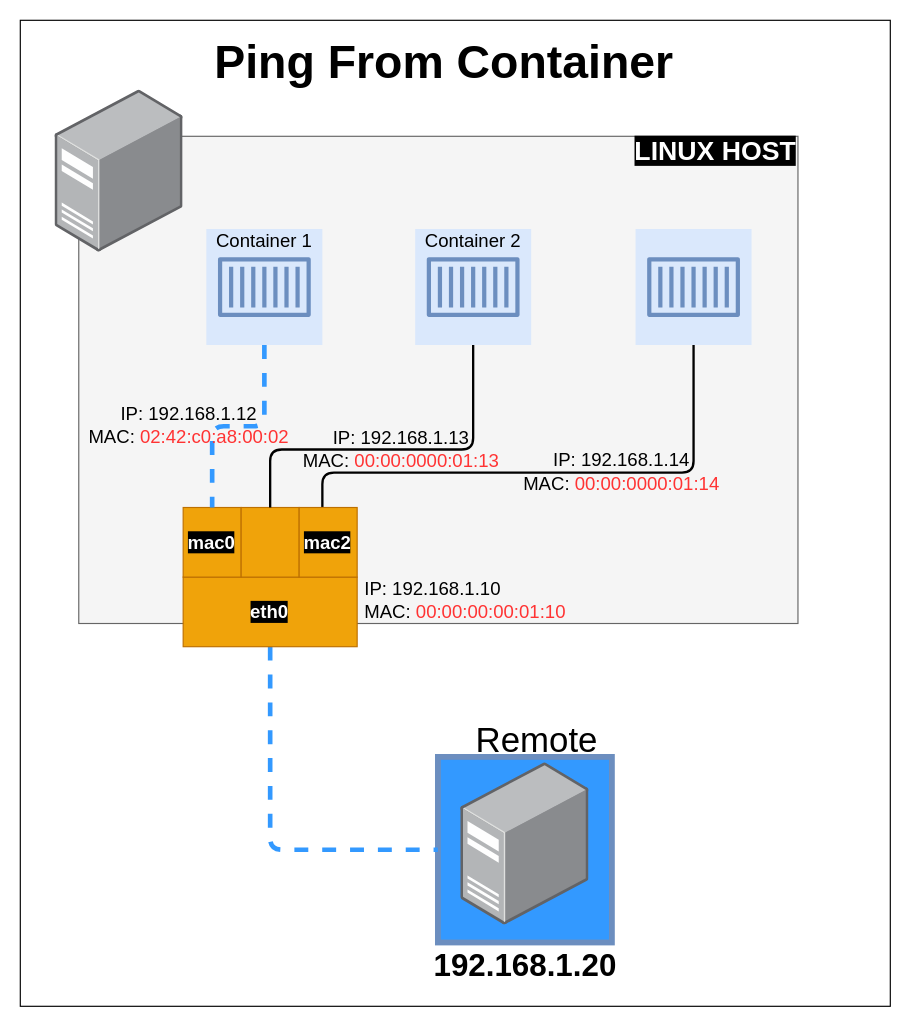
Image size: 911x1027. Some labels were removed from this diagram. Each missing label, with the centre of its shape:
Container 3: point 693,286
mac1: point 269,541
